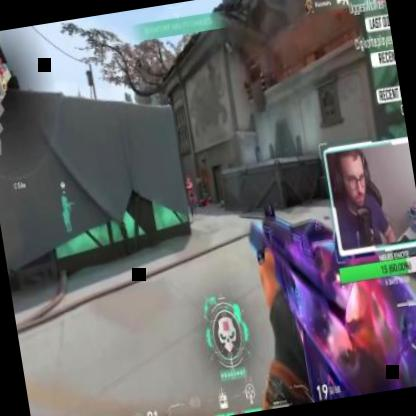enemy: (183, 176, 199, 219)
enemy_head: (185, 175, 190, 182)
